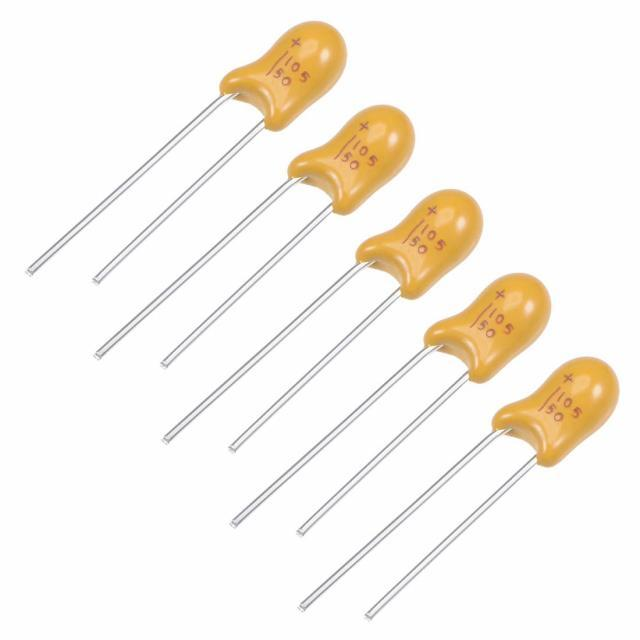Capacitor: (26, 21, 346, 282), (300, 358, 619, 618), (172, 190, 482, 449), (121, 105, 415, 366), (255, 274, 550, 532)
